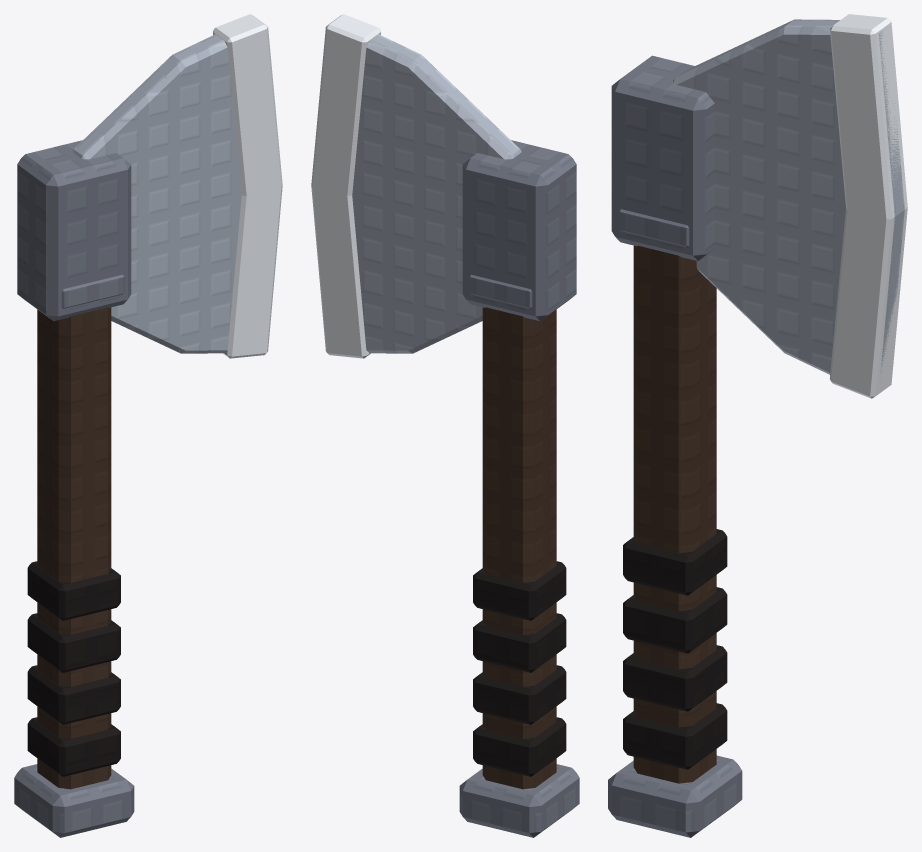
The model's file is outil_08_hache_de_fer.glb.
The picture shows the model from 3 angles, left to right: view 1: azimuth 30°, elevation 25°; view 2: azimuth 150°, elevation 25°; view 3: azimuth 330°, elevation 25°; orthographic projection. The views are drawn at different scales.
Parts seen in each view (by area): view 1: outil_08_hache_de_fer; view 2: outil_08_hache_de_fer; view 3: outil_08_hache_de_fer.
Boxes of the visible parts, box(x1,y1,x2,y2) form: outil_08_hache_de_fer: box(14, 14, 282, 837); outil_08_hache_de_fer: box(311, 14, 579, 837); outil_08_hache_de_fer: box(608, 14, 907, 837).
Size of the model in its own units: 1.57 by 4.63 by 0.527.
Materials: 1 (1 with a texture image).
